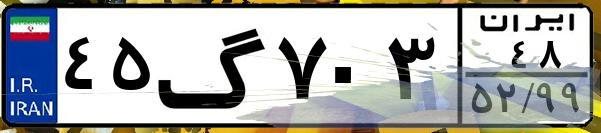0: (330, 28, 385, 110)
2: (495, 70, 520, 125)
3: (385, 28, 445, 110)
4: (57, 26, 110, 100), (508, 27, 537, 80)
5: (110, 28, 156, 98), (470, 70, 495, 125)
7: (270, 28, 330, 110)
8: (537, 27, 568, 80)
9: (560, 70, 590, 125), (535, 70, 560, 125)
گ: (156, 12, 270, 120)
